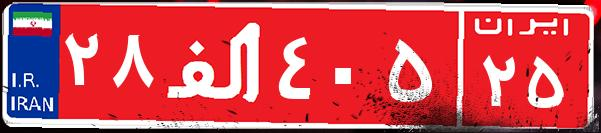0: (330, 28, 385, 110)
2: (57, 26, 110, 107), (475, 38, 525, 113)
4: (273, 28, 330, 110)
5: (385, 28, 445, 110), (525, 38, 570, 115)
8: (110, 28, 158, 105)
الف: (158, 15, 273, 115)
